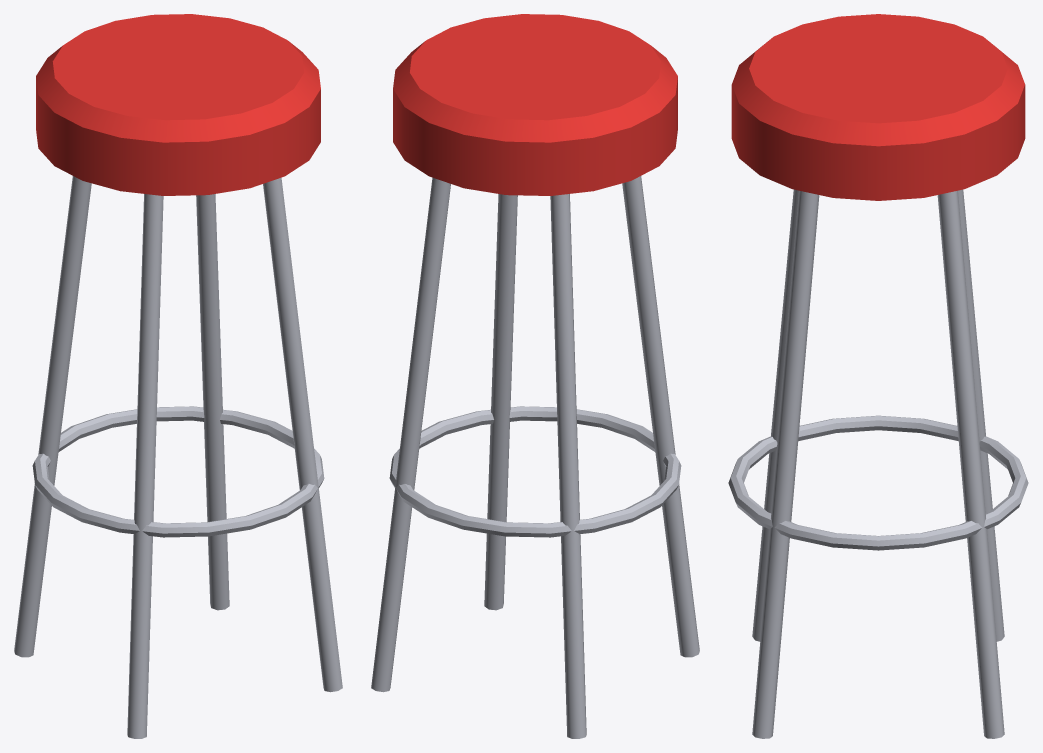
File: Stool.obj
3 renders of one model, left to right at view 1: azimuth 30°, elevation 25°; view 2: azimuth 150°, elevation 25°; view 3: azimuth 270°, elevation 25°, orthographic. The views are drawn at different scales.
Parts seen in each view (by area): view 1: Stool; view 2: Stool; view 3: Stool.
Part boxes in pixels (left/top/right/bottom): Stool: left=14, top=14, right=342, bottom=738; Stool: left=371, top=14, right=699, bottom=738; Stool: left=728, top=14, right=1028, bottom=738.
Bounding box in the file's own units: 0.348 × 0.7914 × 0.348.
